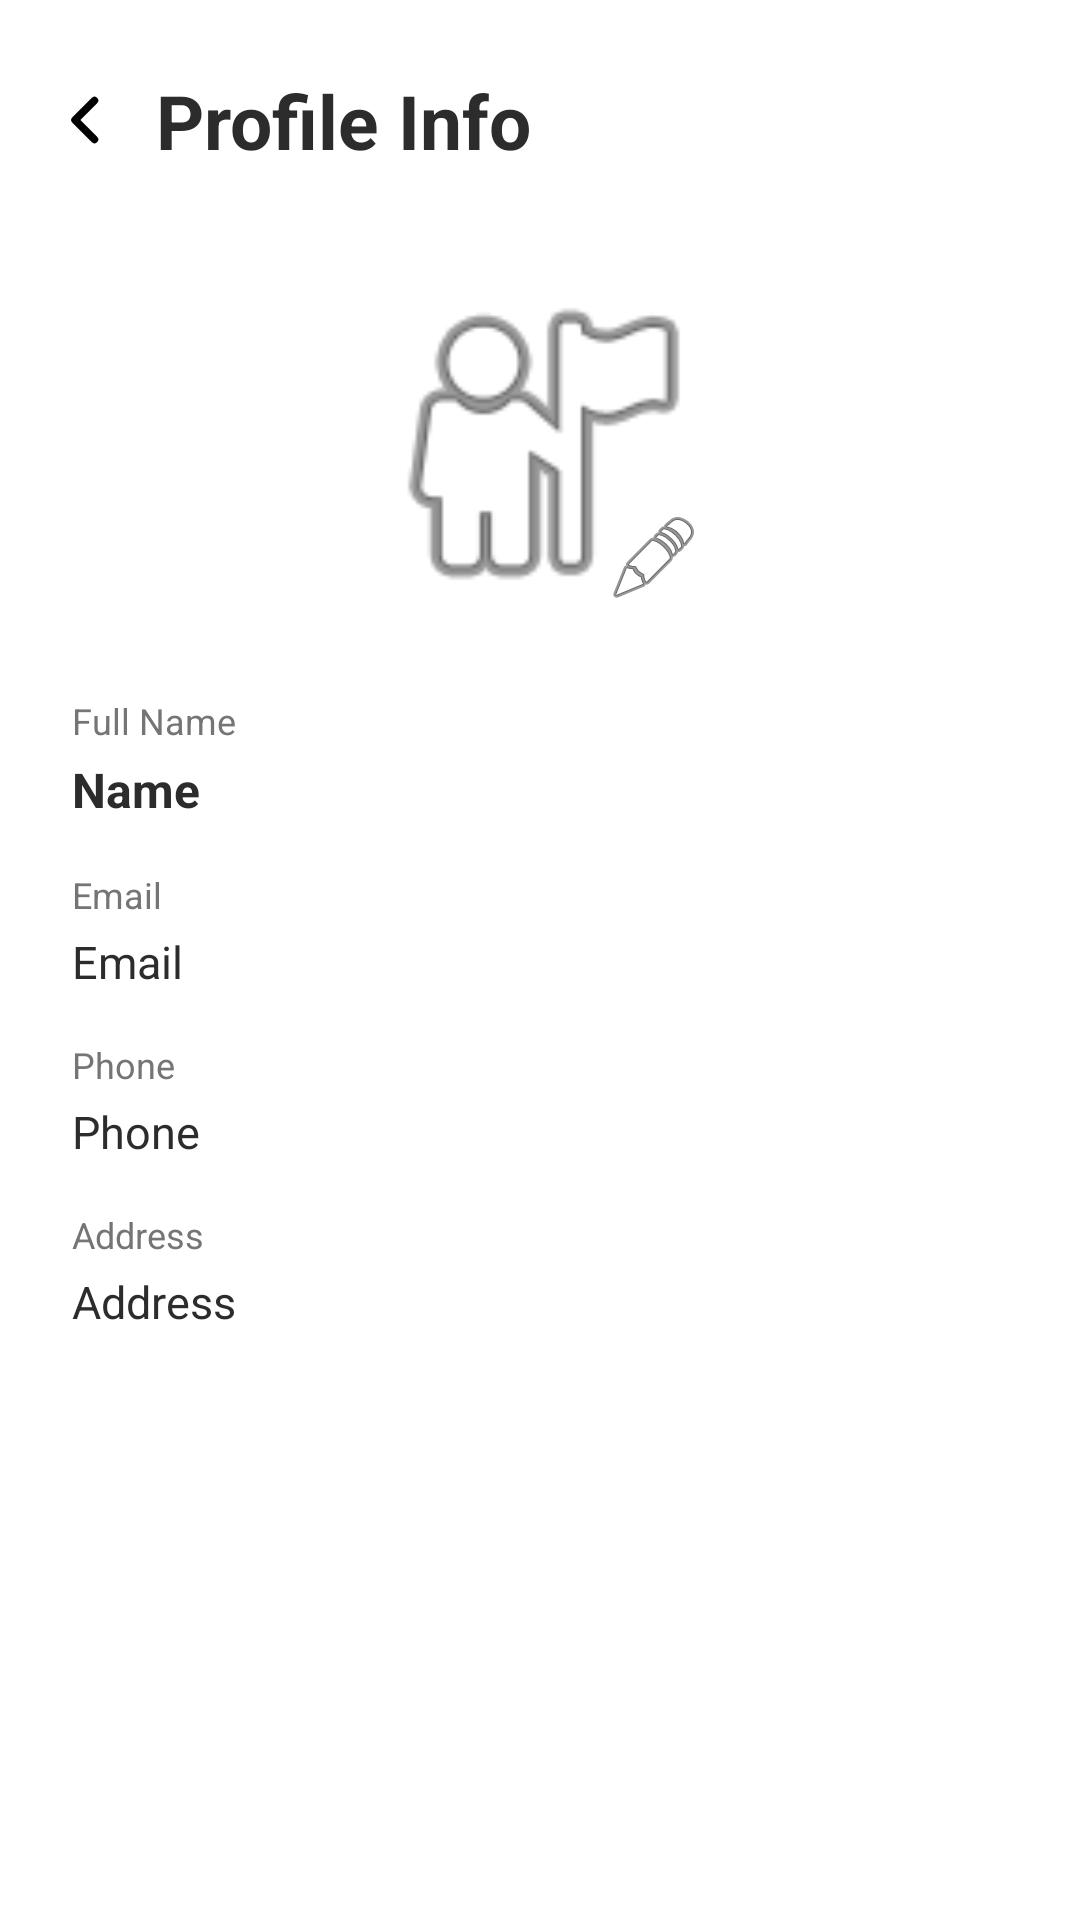

Icon click points for this 1080px x 1920px phone screenshot, format (x=x, y=y):
Back: (x=85, y=120)
